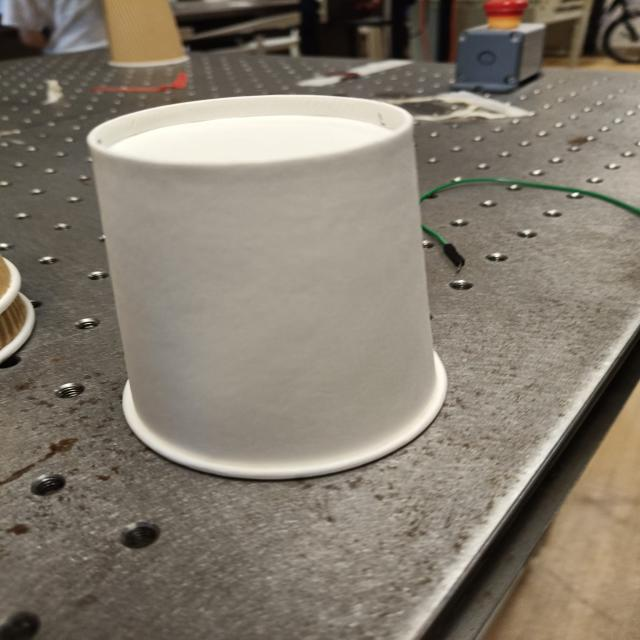Browncup: (102, 0, 188, 67), (0, 291, 37, 365), (0, 253, 25, 314)
Whitecup: (87, 95, 447, 479)
